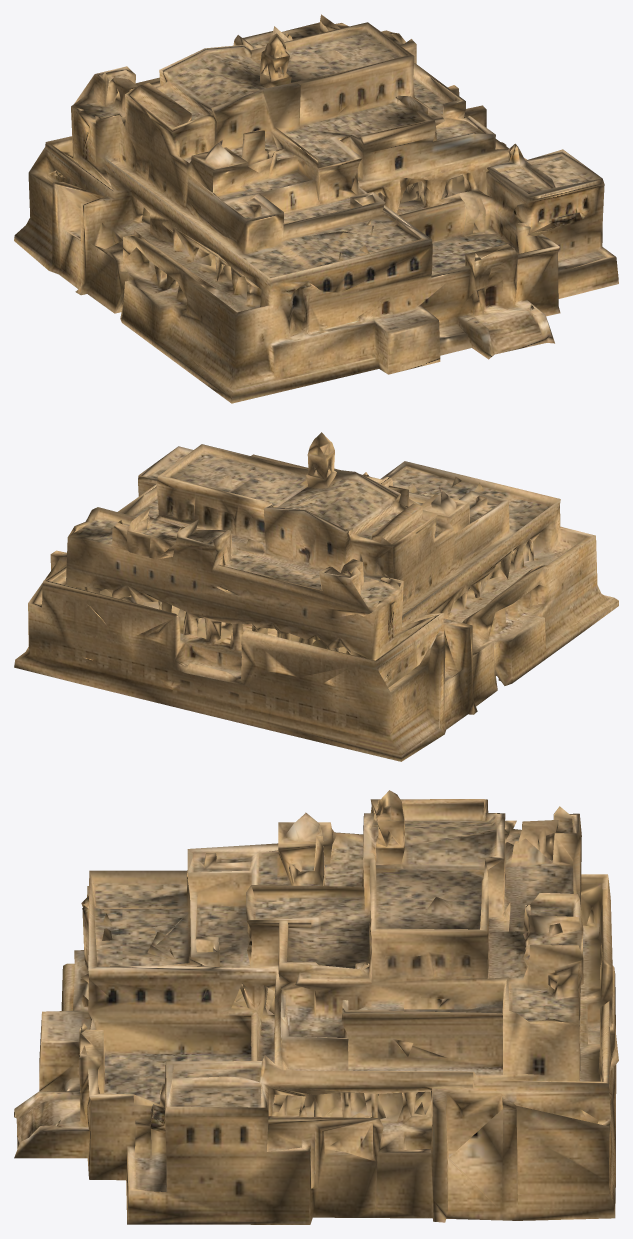
Rendered from city_mardin_deyrulzafaran.glb.
The picture shows the model from 3 angles, top to bottom: view 1: azimuth 30°, elevation 25°; view 2: azimuth 150°, elevation 25°; view 3: azimuth 270°, elevation 25°; orthographic projection. The views are drawn at different scales.
Parts seen in each view (by area): view 1: Mesh1.0; view 2: Mesh1.0; view 3: Mesh1.0.
Part boxes in pixels (x1,y1,x2,y2): Mesh1.0: (14, 14, 618, 403); Mesh1.0: (14, 432, 618, 761); Mesh1.0: (14, 790, 618, 1224).
Bounding box in the file's own units: 33.77 × 18 × 33.92.
Materials: 1 (1 with a texture image).
